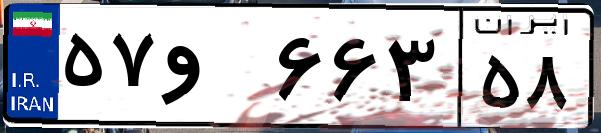3: (385, 28, 445, 110)
5: (57, 26, 110, 100), (475, 38, 525, 113)
6: (270, 28, 330, 110), (330, 28, 385, 110)
7: (110, 28, 158, 98)
8: (525, 38, 570, 115)
و: (158, 20, 270, 120)
